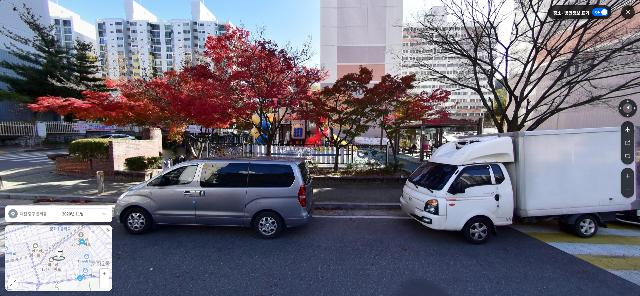other: (376, 0, 640, 135), (27, 61, 249, 160), (195, 23, 333, 158), (298, 64, 460, 173), (0, 0, 115, 124)
